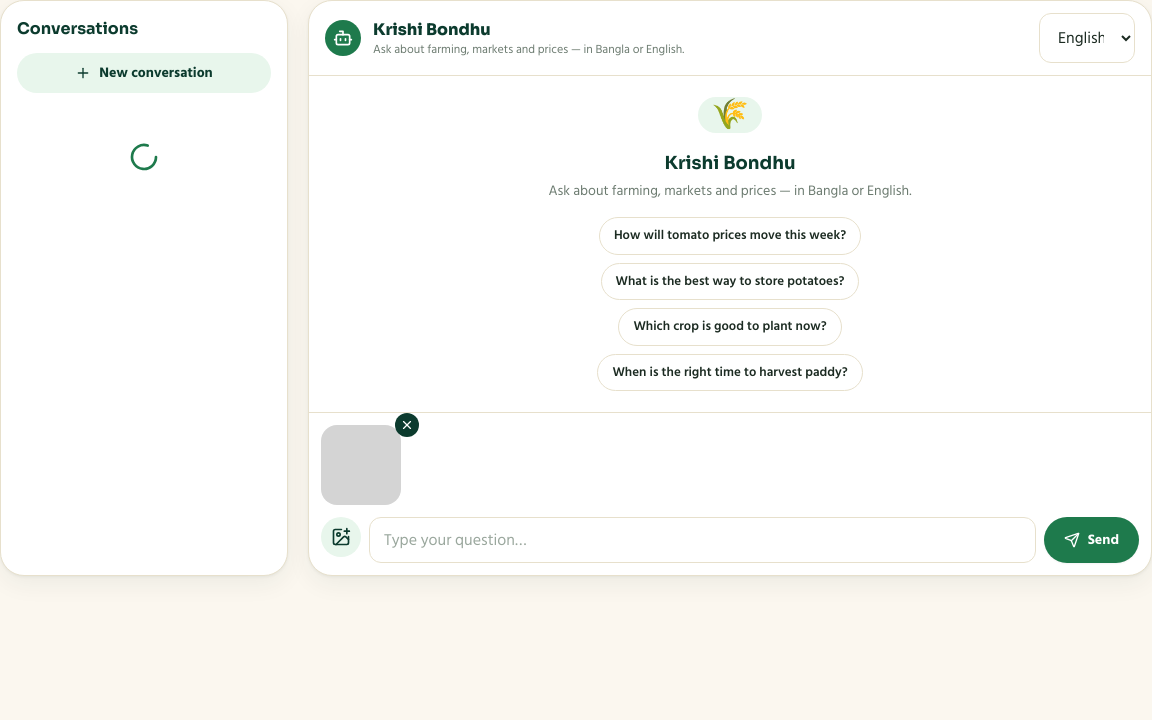
AssistantPage voice › hides speaker buttons when speechSynthesis is unavailable
This screenshot has width=1152, height=720.
Earlier steps of the test are not shown.
Click the button "Send" at (1091, 540), box x1=1044 y1=517 x2=1139 y2=563
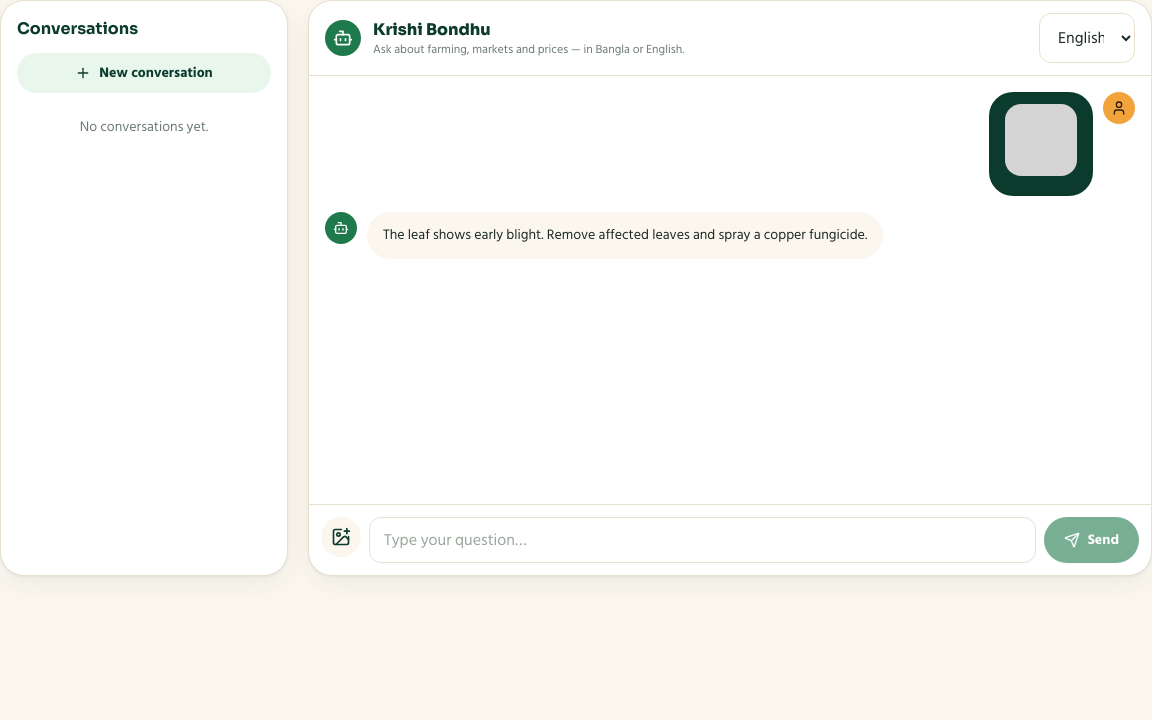
Result: the text "The leaf shows early blight. Remove affected leaves and spray a copper fungicide." is shown at x1=383 y1=223 x2=867 y2=246
